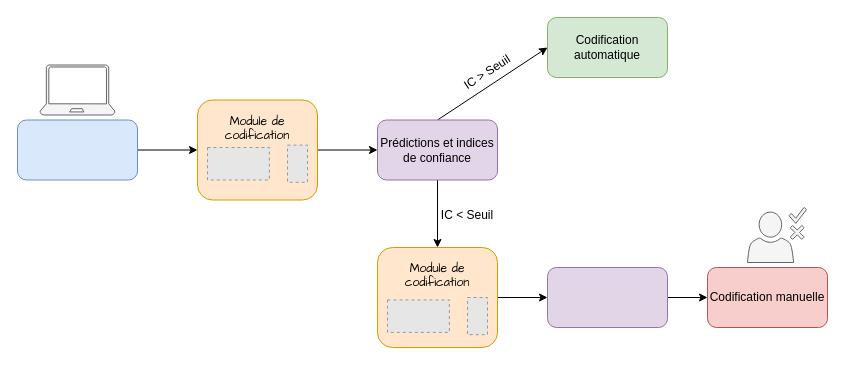
Some shapes in this 845 by 365 pixel diagram are drawn without their labels. Grey dashed boxes stand in for pictures. Each missing label, with the box of its shape:
Sirene 4: (16, 119, 138, 180)
Top-5 prédictions: (546, 266, 668, 328)
